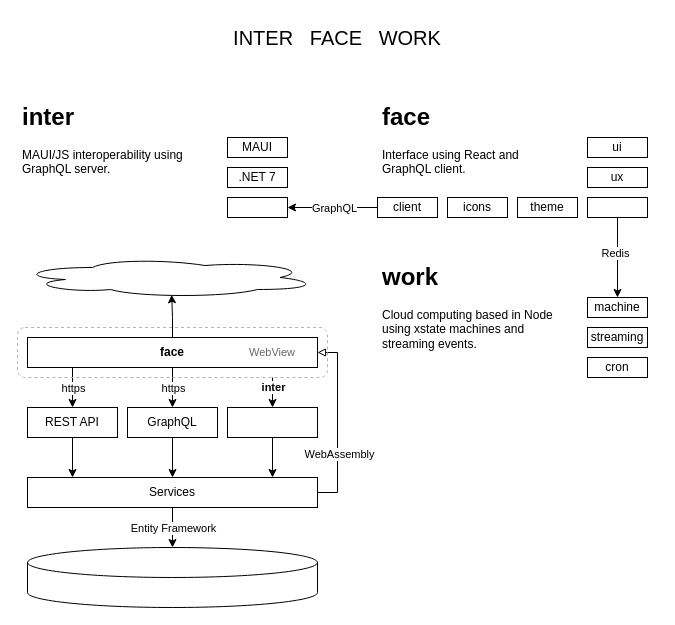
Some shapes in this 675 by 625 pixel diagram are drawn without their labels. The shapes that lost their labels are listed below. From the top down, each one's box as (x1, y1, x2, y2) in pixels, then its label:
(226, 196, 288, 218): server
(586, 196, 648, 218): viz
(16, 256, 318, 298): work
(226, 406, 318, 438): Desktop
(26, 546, 318, 608): Microsoft SQL Server
